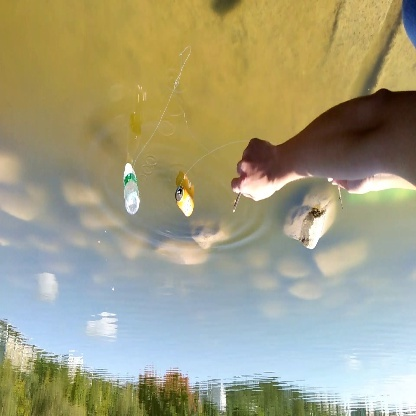bottle: (120, 157, 143, 216), (169, 180, 200, 219)
